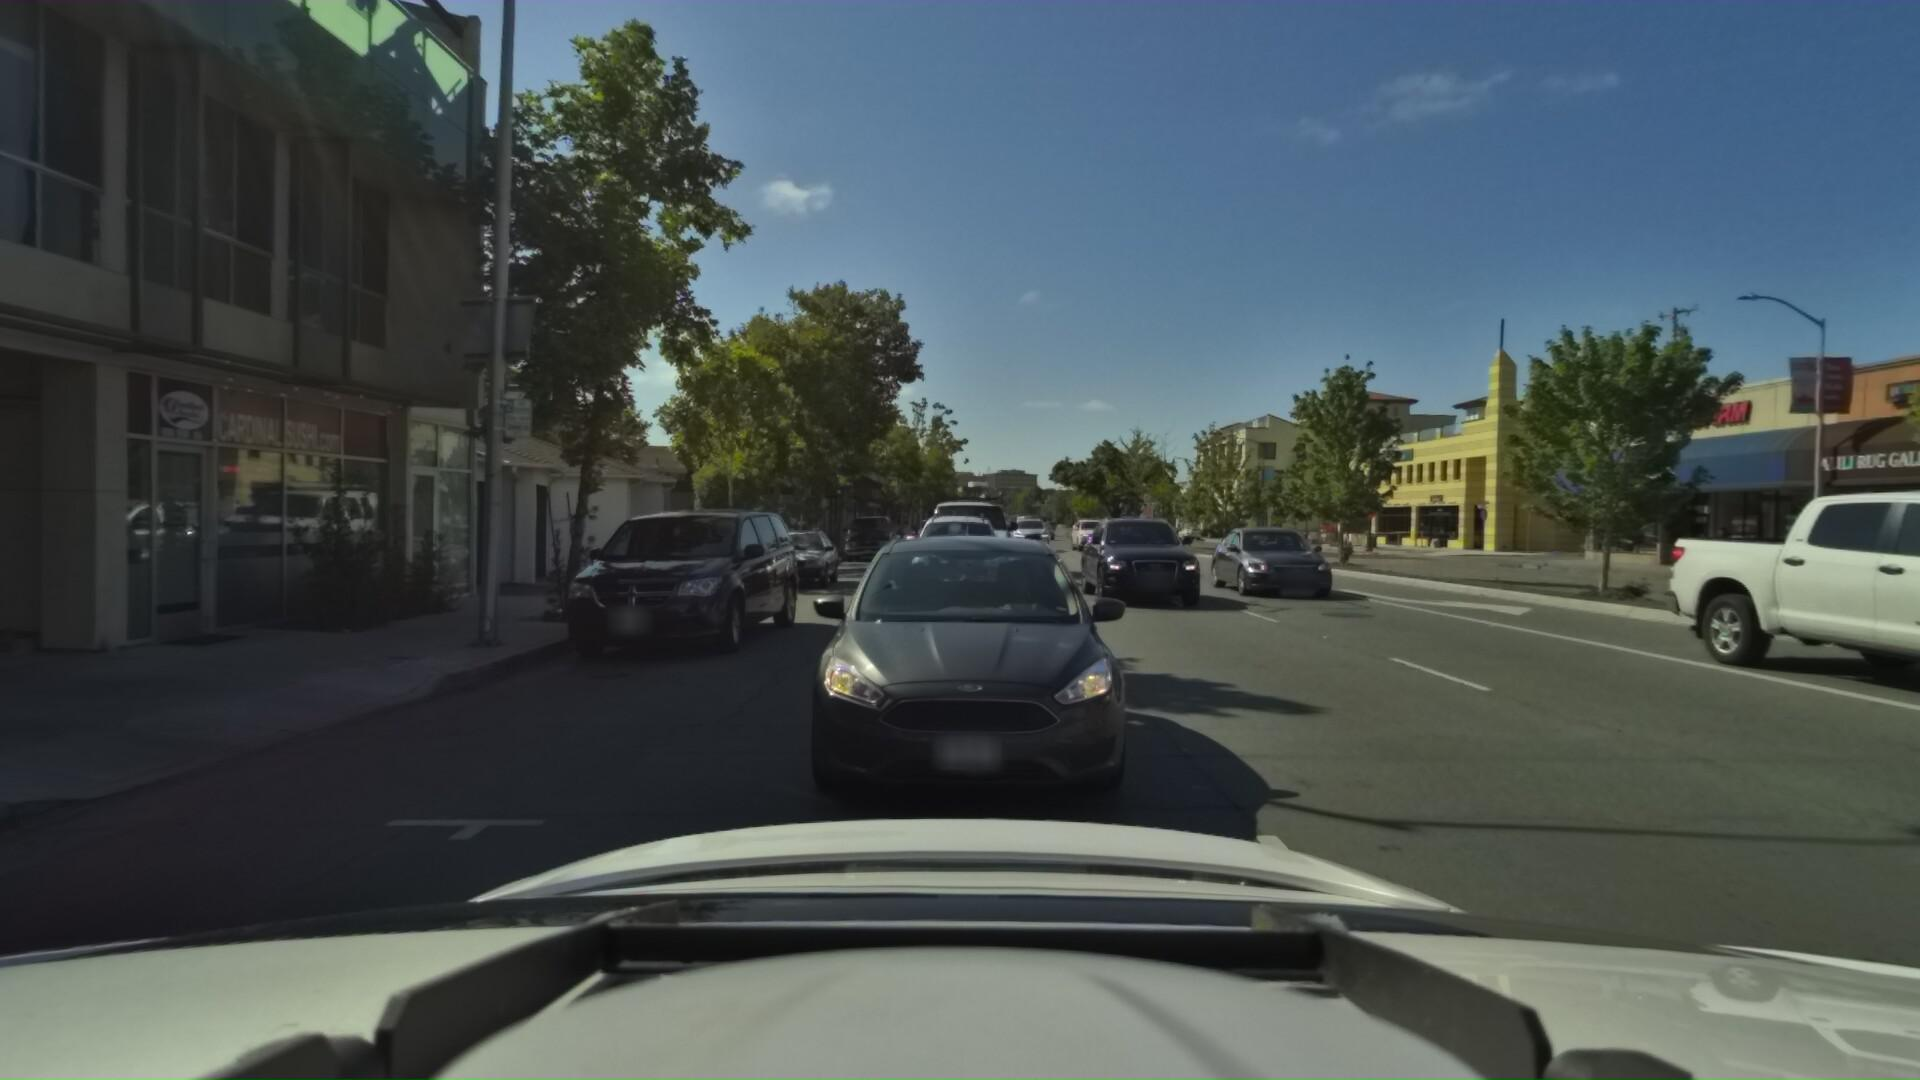car: (779, 517, 1160, 844), (1651, 448, 1920, 761), (534, 495, 808, 667), (1073, 510, 1203, 608), (1197, 516, 1335, 597), (901, 506, 1007, 605), (920, 473, 1015, 575), (757, 521, 843, 589), (840, 509, 905, 560), (1067, 516, 1112, 551), (1007, 514, 1048, 550)
